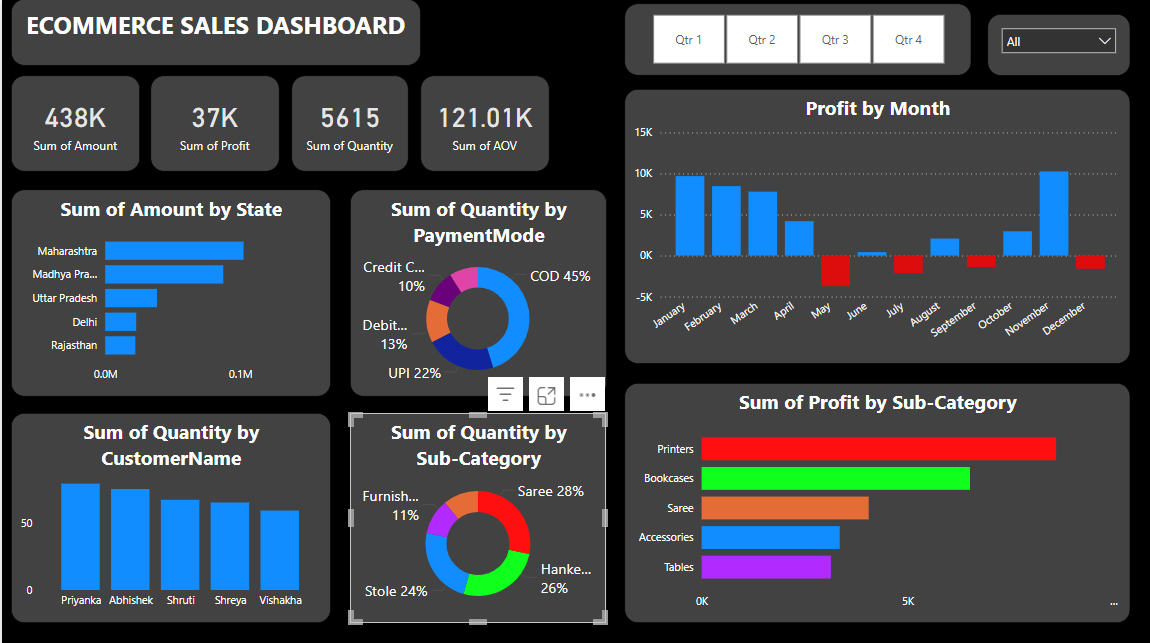

The dashboard page shown, as its layout file describes it:
{"tool":"powerbi","page":{"name":"Page 1","canvas":[1280,720],"ordinal":0},"visuals":[{"type":"textbox","box":[9.4,0,455.4,73.7],"z":0},{"type":"columnChart","title":" Profit by Month","fields":{"Y":["Details.Profit"],"Category":["Orders.Order Date.Variation.Date Hierarchy.Month"]},"box":[691.7,100,561.7,305],"z":1000},{"type":"clusteredBarChart","fields":{"Category":["Details.Sub-Category"],"Y":["Details.Profit"]},"box":[691.7,426.7,561.7,266.7],"z":2000},{"type":"donutChart","fields":{"Category":["Details.Sub-Category"],"Y":["Details.Quantity"]},"box":[386.7,460,285,233.3],"z":3000},{"type":"donutChart","fields":{"Category":["Details.PaymentMode"],"Y":["Details.Quantity"]},"box":[386.7,211.7,285,230],"z":4000},{"type":"card","fields":{"Values":["Details.Amount"]},"box":[10,85,143.3,106.7],"z":5000},{"type":"card","fields":{"Values":["Details.Profit"]},"box":[165,85,143.3,106.7],"z":6000},{"type":"card","fields":{"Values":["Details.Quantity"]},"box":[321.7,85,130,106.7],"z":7000},{"type":"card","fields":{"Values":["Details.AOV"]},"box":[465,85,143.3,106.7],"z":8000},{"type":"clusteredBarChart","fields":{"Y":["Details.Amount"],"Category":["Orders.State"]},"box":[10,211.7,355,230],"z":9000},{"type":"columnChart","fields":{"Category":["Orders.CustomerName"],"Y":["Details.Quantity"]},"box":[10,460,355,233],"z":10000},{"type":"slicer","fields":{"Values":["Orders.Order Date.Variation.Date Hierarchy.Quarter"]},"box":[691.7,5,385,80],"z":11000},{"type":"slicer","fields":{"Values":["Orders.State"]},"box":[1095,16.7,158.3,68.3],"z":11001}]}

Visuals, with their boxes in screenshot pixels (x1, y1, x2, y2), scaled from the page's 1280x720 canvas onto the 1150x643 screenshot:
textbox: pyautogui.locateOnScreen(8, 0, 418, 66)
" Profit by Month" columnChart: pyautogui.locateOnScreen(621, 89, 1126, 362)
clusteredBarChart - Details.Sub-Category x Details.Profit: pyautogui.locateOnScreen(621, 381, 1126, 619)
donutChart - Details.Sub-Category x Details.Quantity: pyautogui.locateOnScreen(347, 411, 603, 619)
donutChart - Details.PaymentMode x Details.Quantity: pyautogui.locateOnScreen(347, 189, 603, 394)
card - Details.Amount: pyautogui.locateOnScreen(9, 76, 138, 171)
card - Details.Profit: pyautogui.locateOnScreen(148, 76, 277, 171)
card - Details.Quantity: pyautogui.locateOnScreen(289, 76, 406, 171)
card - Details.AOV: pyautogui.locateOnScreen(418, 76, 547, 171)
clusteredBarChart - Details.Amount x Orders.State: pyautogui.locateOnScreen(9, 189, 328, 394)
columnChart - Orders.CustomerName x Details.Quantity: pyautogui.locateOnScreen(9, 411, 328, 619)
slicer - Orders.Order Date.Variation.Date Hierarchy.Quarter: pyautogui.locateOnScreen(621, 4, 967, 76)
slicer - Orders.State: pyautogui.locateOnScreen(984, 15, 1126, 76)
